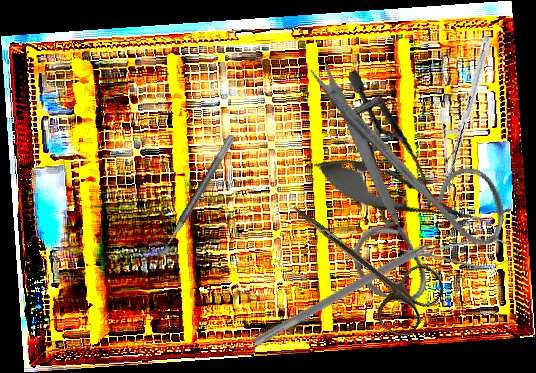Fixation Ring: (147, 127, 237, 258)
Iris Scissors: (249, 58, 533, 325), (268, 180, 451, 343)
Micro Scissor: (306, 144, 493, 244), (398, 235, 520, 271)
Needle Holder: (409, 34, 525, 195)
Spatula Surgical: (252, 224, 461, 355)
Speculum: (323, 69, 460, 238)
